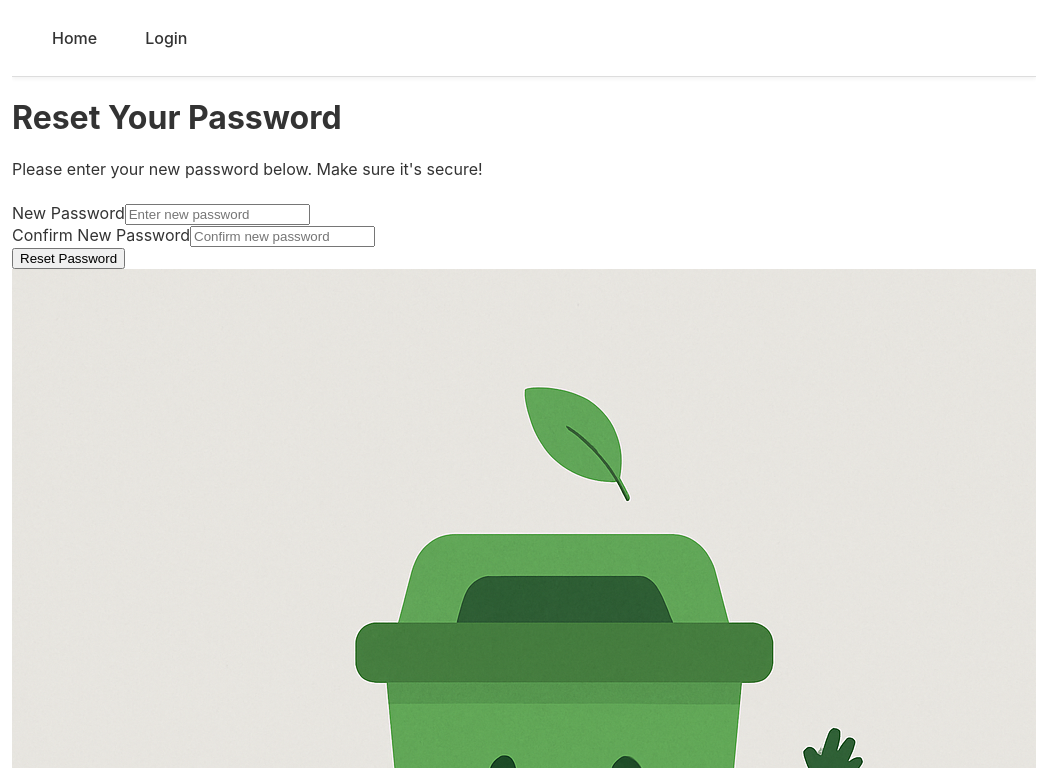
Test: ResetPasswordPage Component › submits new password successfully
Step 1. Type "newPass123" into the password field labelled "New Password" → (217, 214), box [125,204,310,225]
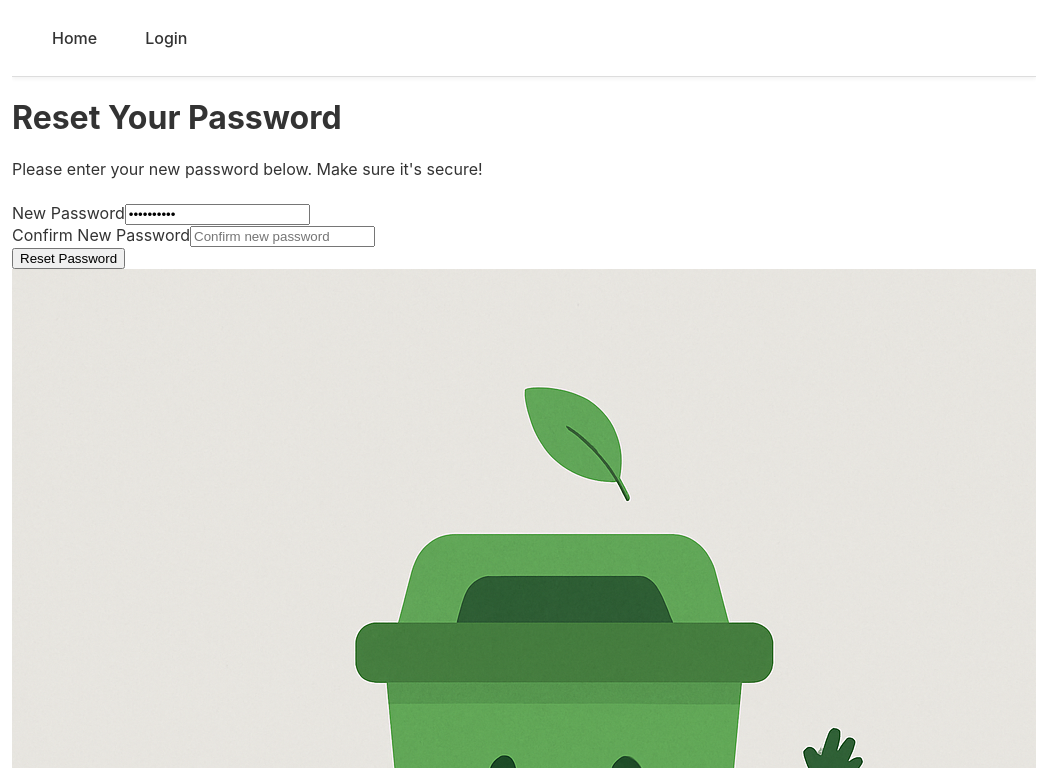
Step 2. Type "newPass123" into the password field labelled "Confirm New Password" → (283, 236), box [190,226,375,247]
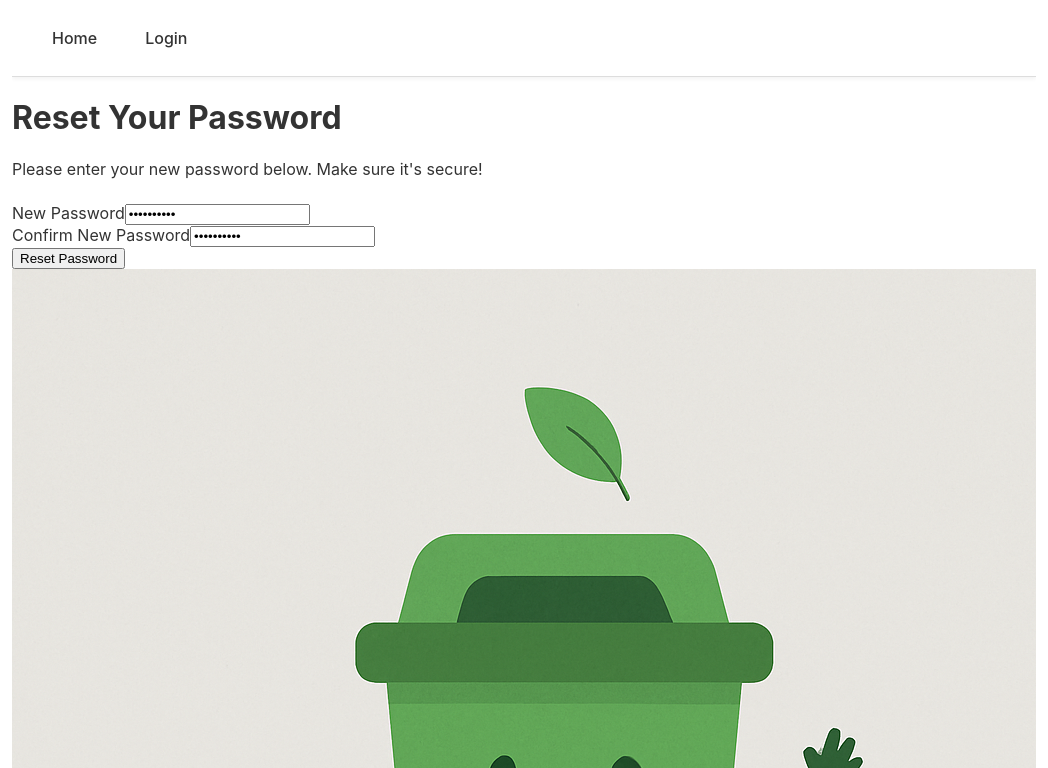
Step 3. Click the button "Reset Password" → (68, 258), box [12,248,125,269]
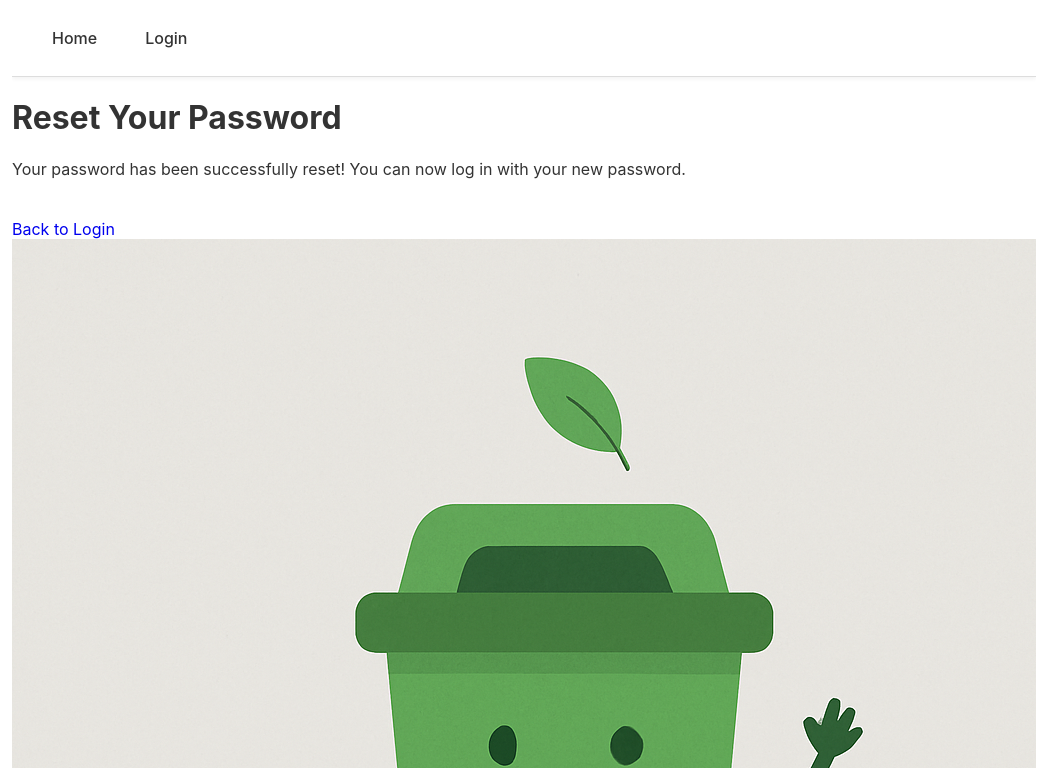
Expected: the text "Your password has been successfully reset" is shown, [12,159,686,179]
